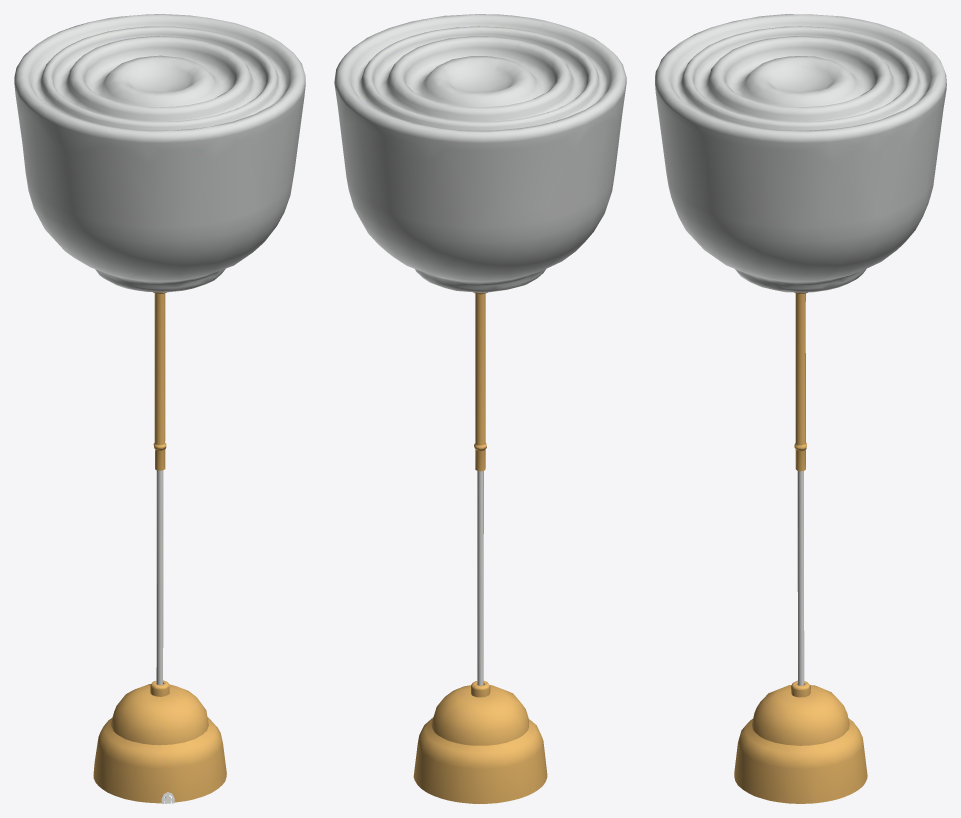
File: mudderverk_lampa_wiszaca_10549409.glb
The picture shows the model from 3 angles, left to right: view 1: azimuth 30°, elevation 25°; view 2: azimuth 150°, elevation 25°; view 3: azimuth 270°, elevation 25°; orthographic projection.
Parts seen in each view (by area): view 1: mudderverk_lampa_wiszaca_10549409; view 2: mudderverk_lampa_wiszaca_10549409; view 3: mudderverk_lampa_wiszaca_10549409.
Boxes of the visible parts, left/top/right/bottom form: mudderverk_lampa_wiszaca_10549409: left=14, top=14, right=305, bottom=803; mudderverk_lampa_wiszaca_10549409: left=334, top=14, right=626, bottom=803; mudderverk_lampa_wiszaca_10549409: left=655, top=14, right=946, bottom=803.
Bounding box in the file's own units: 0.288 × 0.7669 × 0.2884.
Materials: 2 (2 with a texture image).
